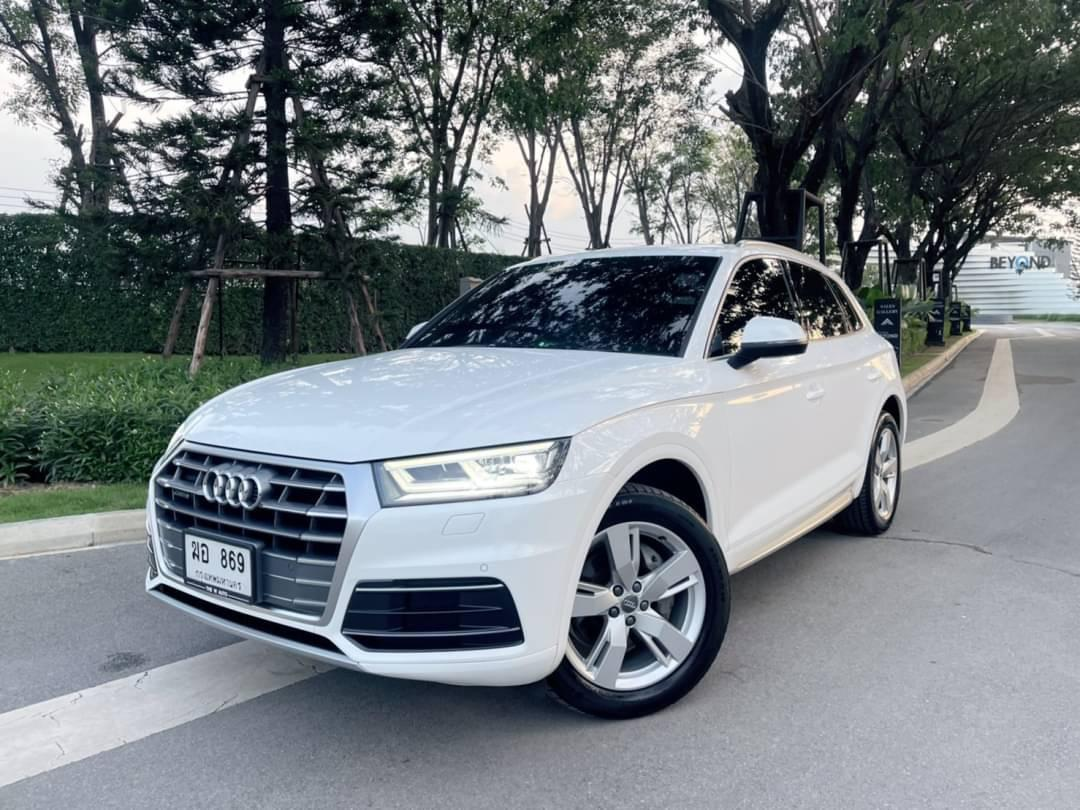license-plate: (178, 524, 265, 607)
